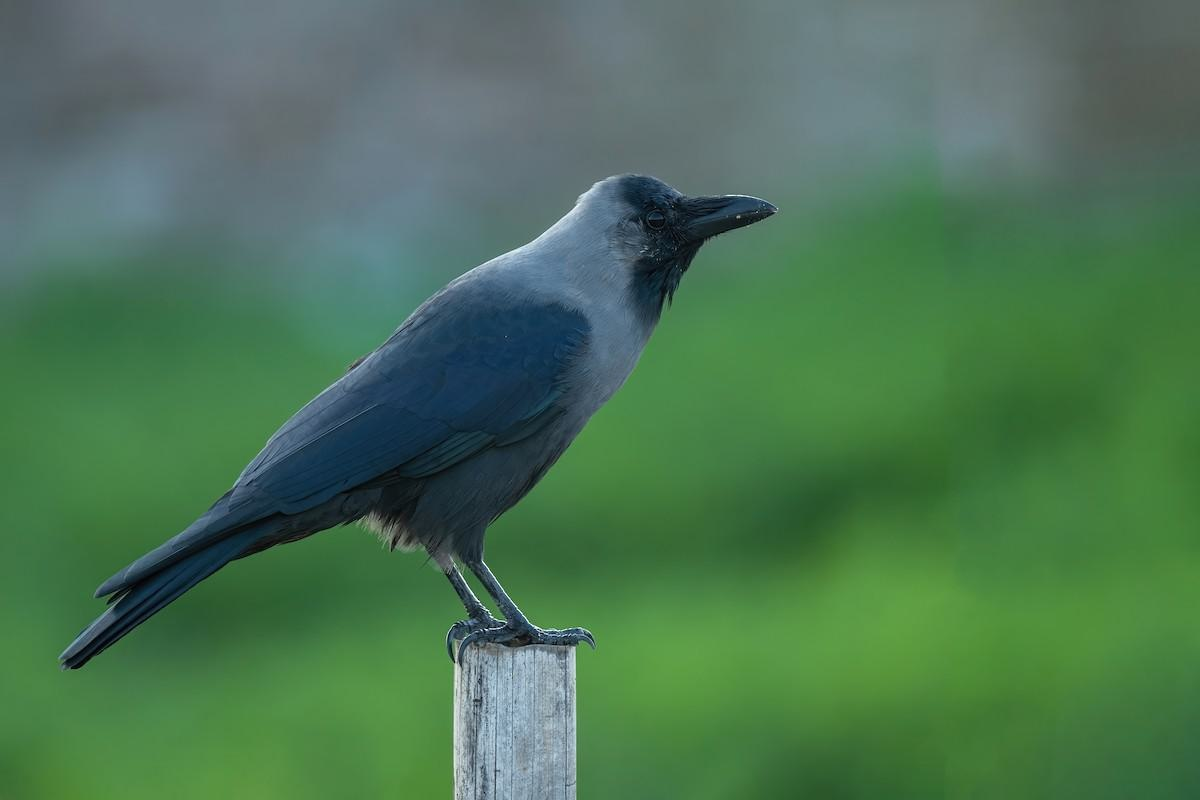crow: (71, 138, 788, 708)
